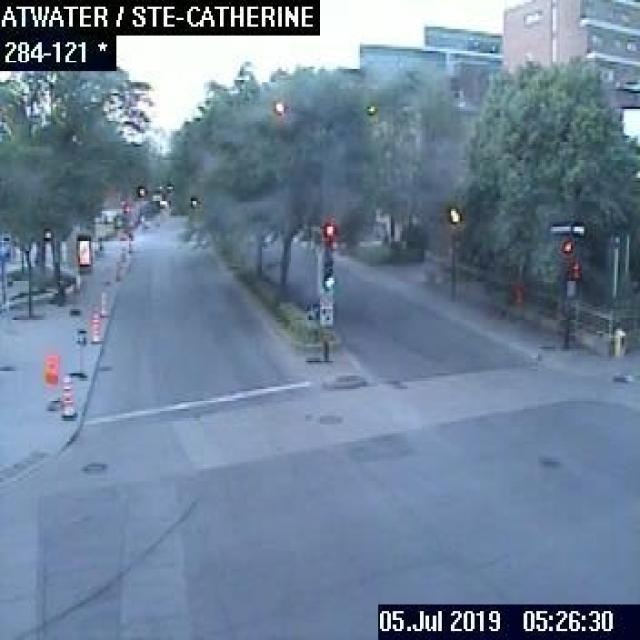construction: (40, 351, 57, 408), (60, 373, 76, 418), (89, 306, 100, 342), (98, 288, 107, 316)
